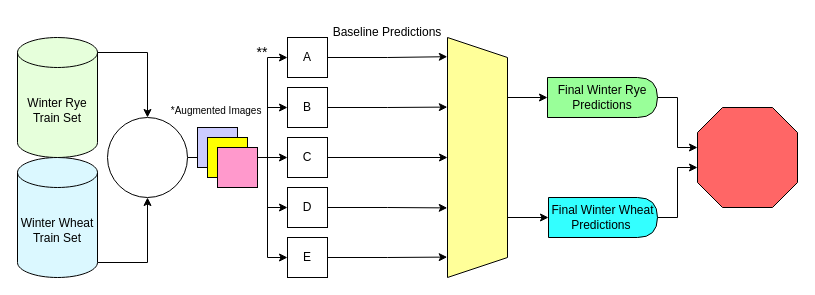
This 815x295 diagram has some shape labels left out. Each missing label, with the centre of its shape:
Augmenter: the point at 147,157
Ensemble Learning Module: the point at 477,157
Submission: the point at 747,157
